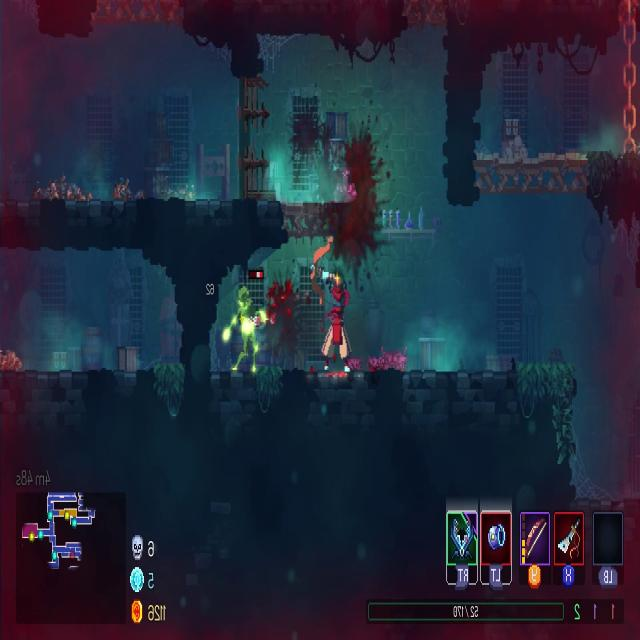agents: (307, 227, 353, 376)
enemy_archer: (223, 280, 273, 382)
wood_floor: (476, 148, 591, 202)
